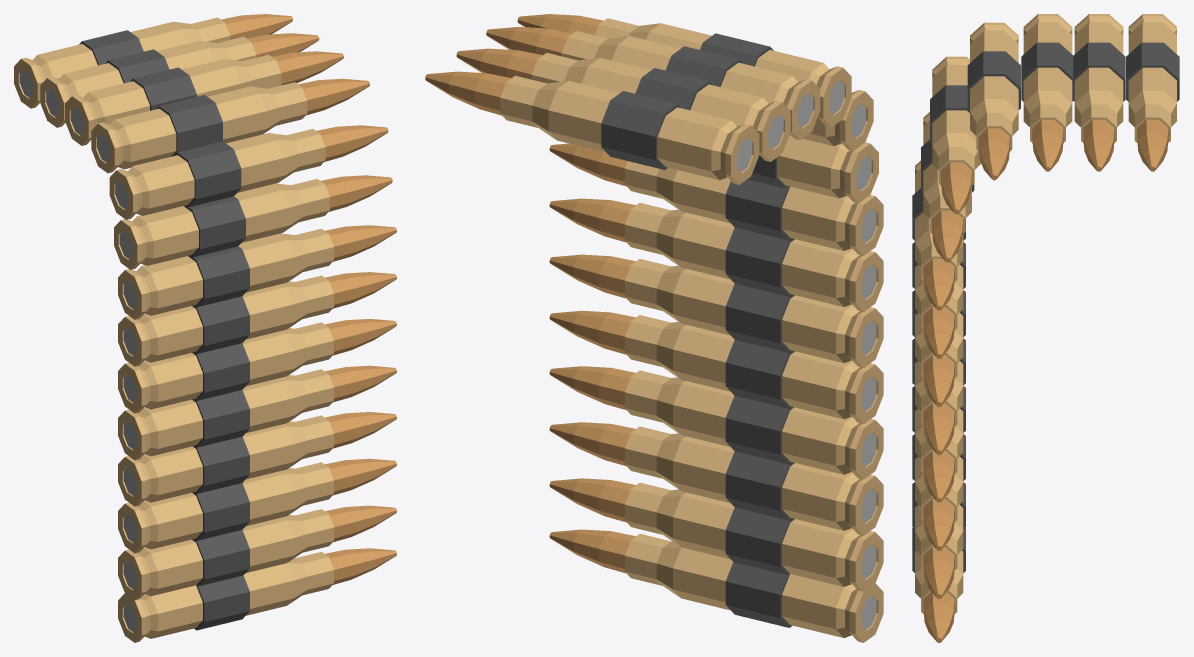
File: LMG3_Bullets.fbx
The picture shows the model from 3 angles, left to right: view 1: azimuth 30°, elevation 25°; view 2: azimuth 150°, elevation 25°; view 3: azimuth 270°, elevation 25°; orthographic projection. The views are drawn at different scales.
Visible parts, largest first — view 1: LMG3_Bullets; view 2: LMG3_Bullets; view 3: LMG3_Bullets.
Boxes of the visible parts, bbox=[...] form: LMG3_Bullets: bbox=[14, 14, 396, 642]; LMG3_Bullets: bbox=[425, 14, 883, 642]; LMG3_Bullets: bbox=[912, 14, 1179, 642].
Size of the model in its own units: 0.0647 by 0.1176 by 0.0548.
